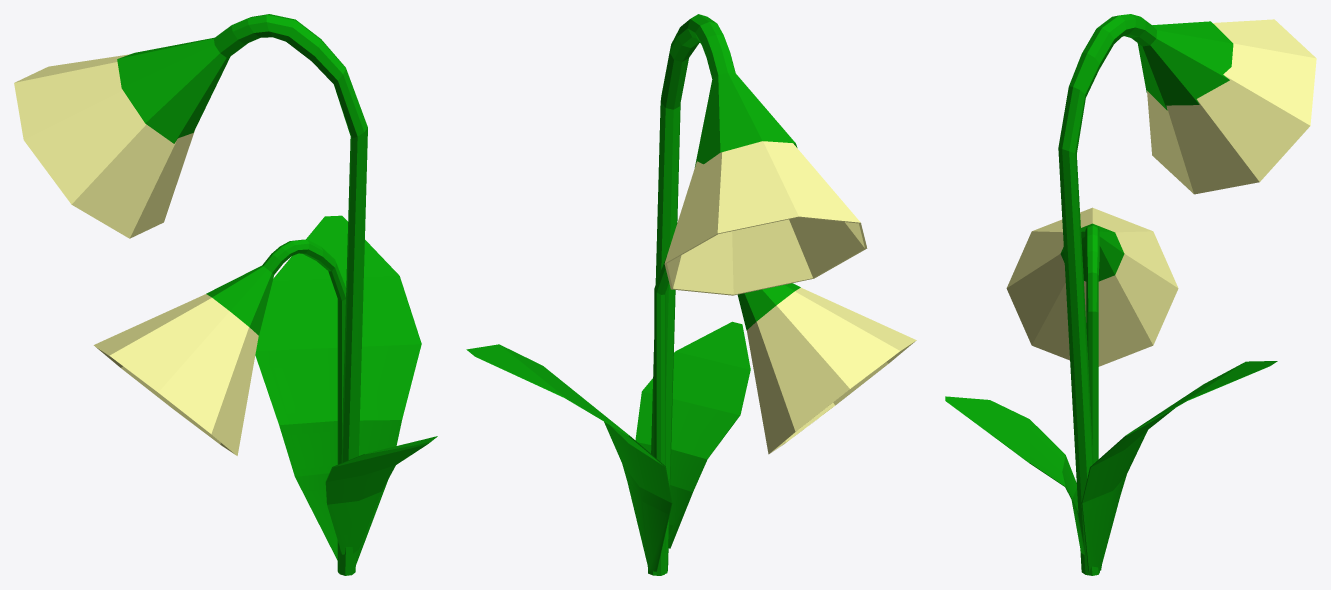
The model's file is Planta_1.fbx.
3 views of the same model, side by side, from view 1: azimuth 30°, elevation 25°; view 2: azimuth 150°, elevation 25°; view 3: azimuth 270°, elevation 25° (orthographic). The views are drawn at different scales.
Parts seen in each view (by area): view 1: pCube2, pCylinder5, pCylinder4, pCylinder2, pCylinder3, pCube1; view 2: pCylinder5, pCylinder2, pCylinder4, pCube1, pCube2, pCylinder3; view 3: pCylinder5, pCylinder4, pCylinder2, pCube2, pCube1, pCylinder3.
Part boxes in pixels (left/top/right/bottom): pCube2: left=255, top=215, right=421, bottom=564; pCylinder5: left=14, top=54, right=194, bottom=238; pCylinder4: left=117, top=14, right=367, bottom=575; pCylinder2: left=93, top=294, right=258, bottom=455; pCylinder3: left=206, top=239, right=346, bottom=572; pCube1: left=325, top=436, right=437, bottom=554; pCylinder5: left=664, top=141, right=867, bottom=295; pCylinder2: left=746, top=287, right=916, bottom=454; pCylinder4: left=648, top=14, right=797, bottom=575; pCube1: left=635, top=321, right=750, bottom=548; pCube2: left=466, top=344, right=672, bottom=571; pCylinder3: left=654, top=256, right=800, bottom=575; pCylinder5: left=1147, top=19, right=1316, bottom=194; pCylinder4: left=1058, top=14, right=1233, bottom=575; pCylinder2: left=1006, top=207, right=1178, bottom=366; pCube2: left=1081, top=361, right=1277, bottom=571; pCube1: left=945, top=396, right=1085, bottom=555; pCylinder3: left=1060, top=223, right=1124, bottom=463.
Size of the model in its own units: 2.13 by 3.14 by 2.
